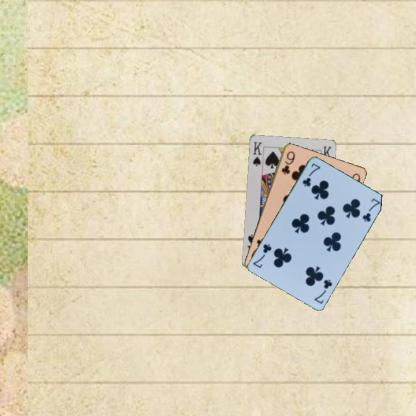7c: (299, 160, 322, 188), (312, 277, 334, 305)
9c: (278, 148, 296, 176)
Ks: (250, 139, 263, 167)
